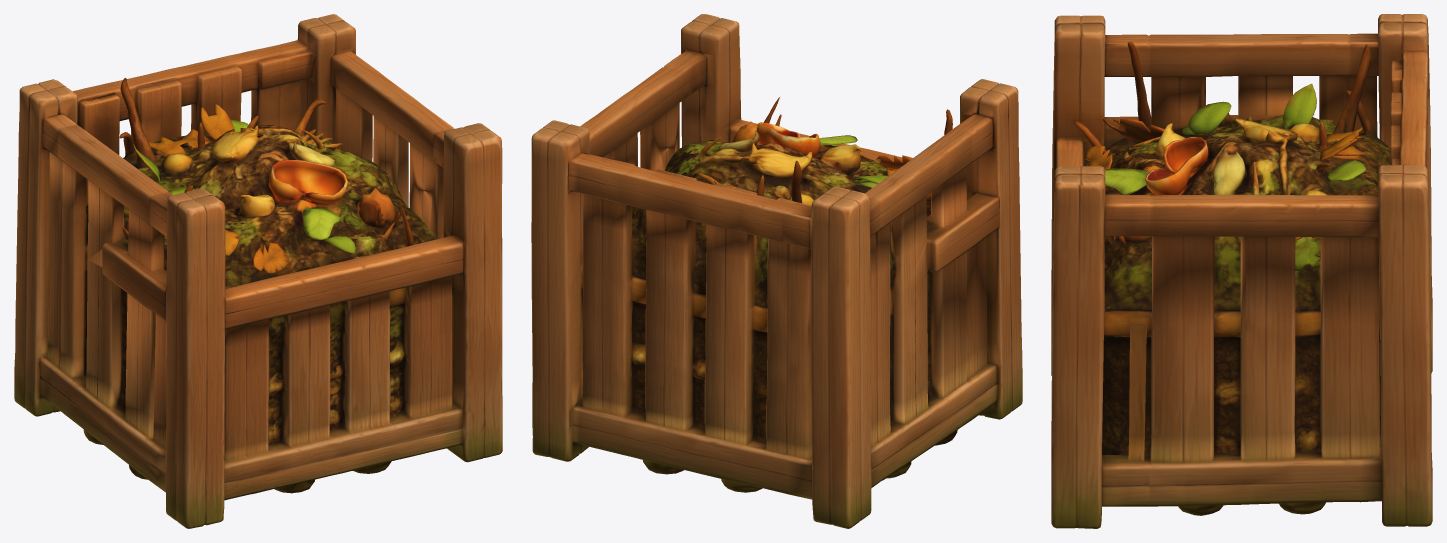
File: compost_bin.glb
The picture shows the model from 3 angles, left to right: view 1: azimuth 30°, elevation 25°; view 2: azimuth 150°, elevation 25°; view 3: azimuth 270°, elevation 25°; orthographic projection. The views are drawn at different scales.
Visible parts, largest first — view 1: tripo_node_3a6ea4f0-21df-4977-b653-29b19c4326f2; view 2: tripo_node_3a6ea4f0-21df-4977-b653-29b19c4326f2; view 3: tripo_node_3a6ea4f0-21df-4977-b653-29b19c4326f2.
Boxes of the visible parts, x1,y1,x2,y2 form: tripo_node_3a6ea4f0-21df-4977-b653-29b19c4326f2: [14, 14, 502, 528]; tripo_node_3a6ea4f0-21df-4977-b653-29b19c4326f2: [531, 14, 1022, 528]; tripo_node_3a6ea4f0-21df-4977-b653-29b19c4326f2: [1051, 14, 1432, 528].
Size of the model in its own units: 0.9791 by 0.9753 by 0.9216.
Materials: 1 (1 with a texture image).
